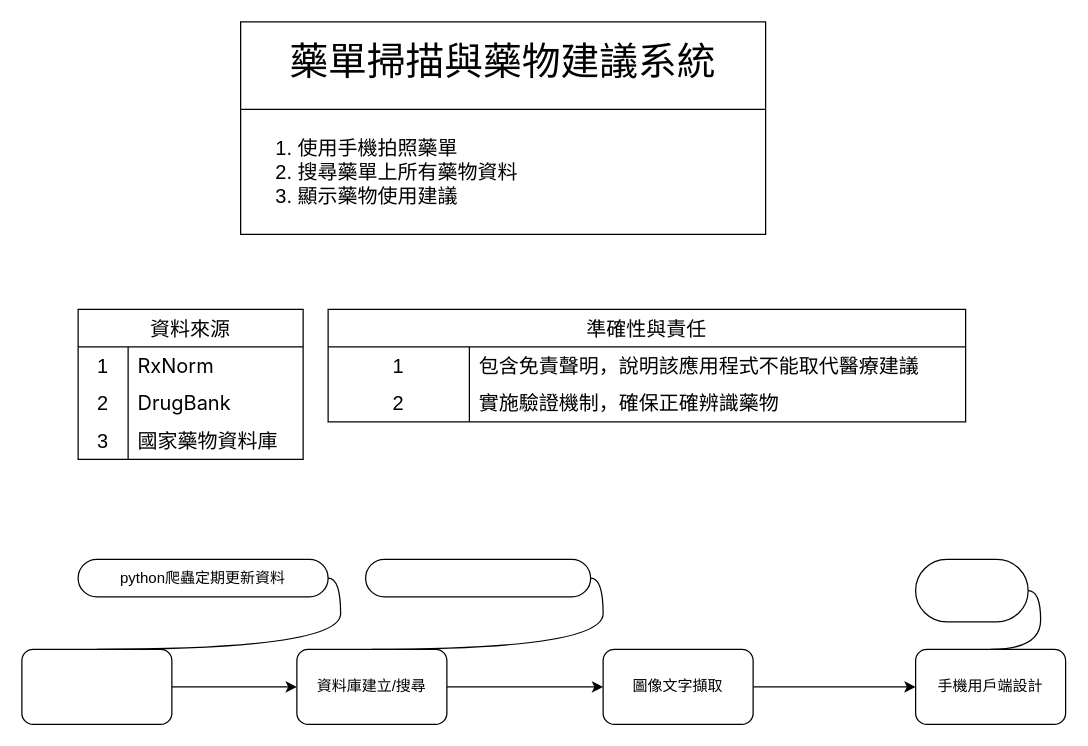
Image size: 1088x746. Some labels were removed from this diagram. The shapes that lost their labels are listed below. From the top down, each one's centre as x and y in pixels, then its label:
the point at 477,577: 找出最快好的資料結構
the point at 971,590: 網頁式 APP
the point at 96,686: 建立獲取
